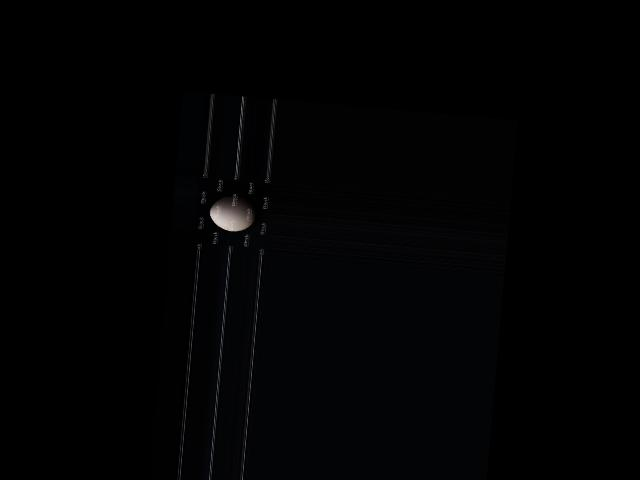egg: (208, 193, 257, 232)
